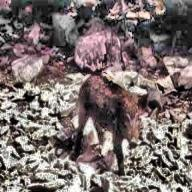boar: (71, 66, 160, 154)
